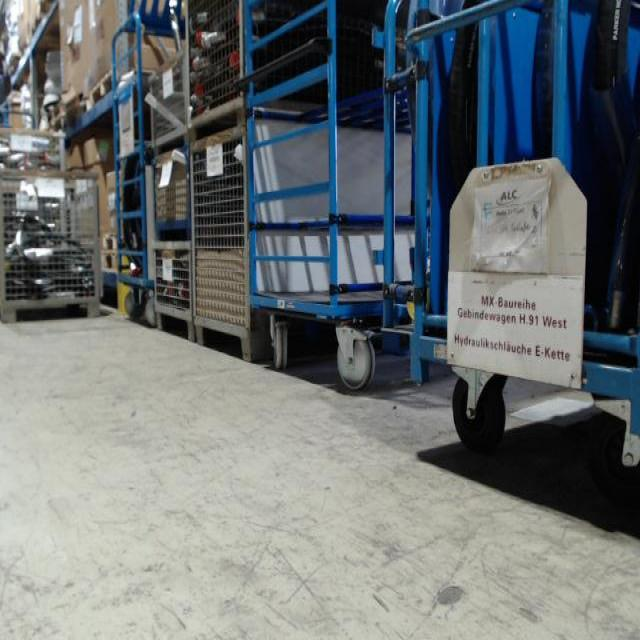pallet: (89, 63, 120, 113), (101, 233, 132, 254), (100, 253, 118, 276)
stillage: (1, 165, 105, 328), (191, 123, 257, 366), (186, 3, 251, 135), (153, 235, 196, 345), (145, 55, 193, 146), (150, 143, 194, 238), (2, 124, 72, 174)
